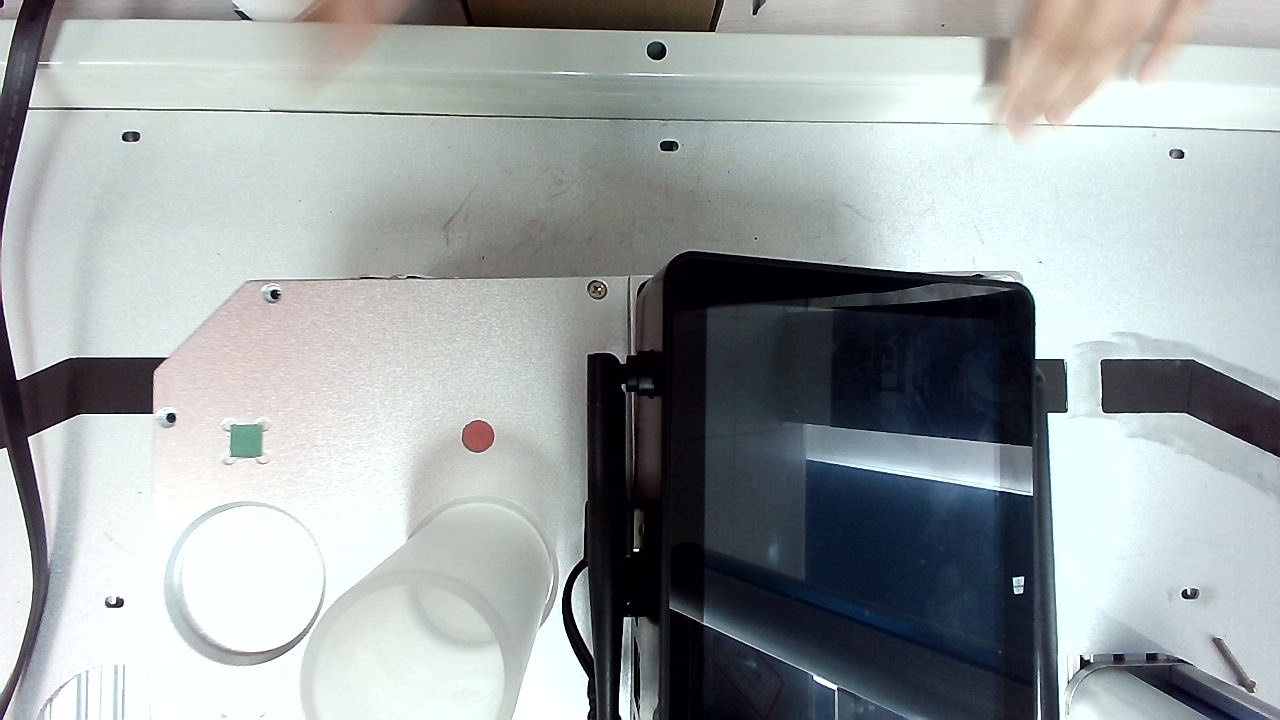bad: (649, 545, 695, 590), (295, 143, 342, 187), (272, 29, 313, 70), (706, 617, 747, 658), (845, 496, 886, 536), (481, 115, 519, 158), (792, 5, 829, 46), (359, 101, 395, 142), (791, 192, 832, 228), (538, 611, 574, 652), (828, 359, 867, 394), (760, 16, 794, 55), (839, 95, 875, 131), (614, 478, 651, 513), (786, 46, 824, 80), (282, 1, 319, 35), (329, 118, 365, 152), (811, 426, 845, 459), (830, 182, 861, 215), (575, 22, 605, 53)
defact: (686, 135, 723, 170)
pass: (644, 295, 686, 338), (296, 622, 336, 665), (530, 567, 569, 611), (643, 587, 686, 626), (847, 410, 882, 456), (465, 489, 502, 532), (446, 597, 481, 641), (587, 303, 622, 345), (826, 59, 865, 96), (769, 433, 804, 473), (676, 26, 707, 71), (667, 623, 703, 660), (797, 108, 832, 146), (686, 574, 715, 619), (445, 133, 478, 170), (626, 47, 659, 80)
toolong: (457, 198, 516, 259), (733, 148, 775, 209), (423, 88, 459, 146)
unpass: (267, 428, 313, 473), (788, 227, 833, 271), (638, 11, 684, 52), (481, 591, 522, 637), (702, 103, 741, 147), (372, 312, 412, 354), (827, 22, 865, 61), (811, 458, 848, 498), (598, 137, 633, 179), (561, 283, 598, 322), (430, 239, 469, 276), (477, 24, 514, 61), (450, 187, 481, 230), (817, 496, 853, 533), (548, 356, 584, 393), (805, 393, 841, 429), (800, 156, 835, 192), (607, 562, 641, 599), (594, 44, 626, 82), (409, 255, 442, 291), (562, 45, 594, 81), (719, 47, 751, 83), (840, 155, 873, 187)
